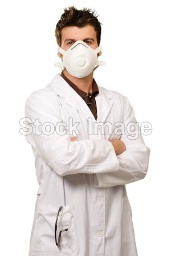correctlyWear: (54, 30, 102, 78)
